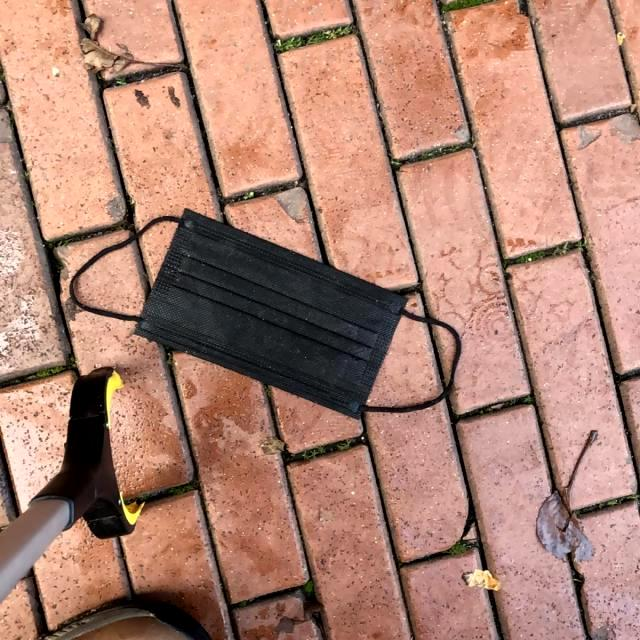Mask: (67, 204, 463, 420)
